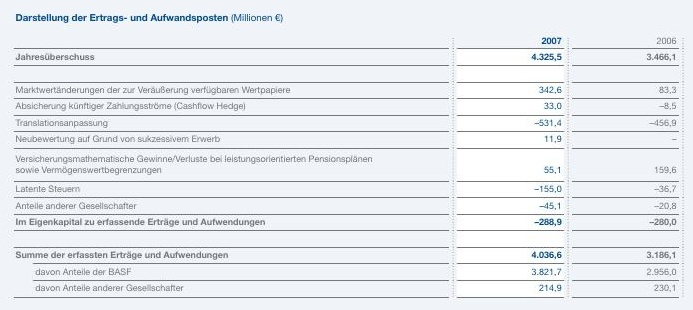table: (0, 0, 693, 310)
